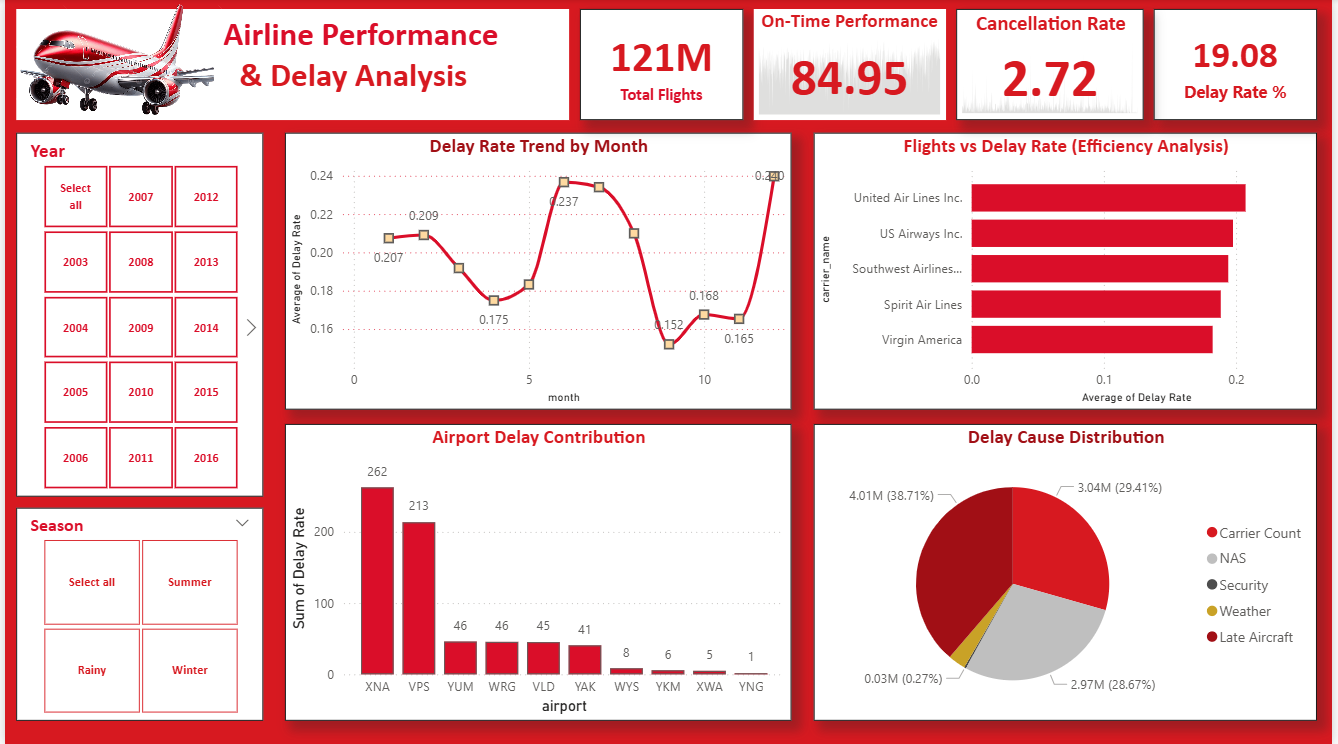

The page's visual inventory and layout, read from the dashboard file:
{"tool":"powerbi","page":{"name":"Airline Performance and Delays Analysis","canvas":[1280,720],"ordinal":0},"visuals":[{"type":"lineChart","title":"Delay Rate Trend by Month","fields":{"Category":["AIRLINE DELAY.month"],"Y":["Avg(AIRLINE DELAY.Delay Rate)"]},"box":[270.3,129,488.5,267.6],"z":0},{"type":"clusteredBarChart","title":"Flights vs Delay Rate (Efficiency Analysis)","fields":{"Category":["AIRLINE DELAY.carrier_name"],"Y":["Avg(AIRLINE DELAY.Delay Rate)"]},"box":[780.8,129,485.8,267.6],"z":1000},{"type":"lineStackedColumnComboChart","title":"Airport Delay Contribution","fields":{"Category":["AIRLINE DELAY.airport"],"Y":["Sum(AIRLINE DELAY.Delay Rate)"]},"box":[270.3,410.3,488.5,286.8],"z":2000},{"type":"pieChart","title":"Delay Cause Distribution","fields":{"Y":["Sum(AIRLINE DELAY.carrier_ct)","Sum(AIRLINE DELAY.nas_ct)","Sum(AIRLINE DELAY.security_ct)","Sum(AIRLINE DELAY.weather_ct)","Sum(AIRLINE DELAY.late_aircraft_ct)"]},"box":[780.8,410.3,485.8,286.8],"z":3000},{"type":"card","fields":{"Values":["Sum(AIRLINE DELAY.arr_flights)"]},"box":[554.4,9.6,157.8,107],"z":4000},{"type":"card","fields":{"Values":["AIRLINE DELAY.Delay Rate %"]},"box":[1108.8,9.6,157.8,107],"z":5000},{"type":"slicer","fields":{"Values":["AIRLINE DELAY.year"]},"box":[11,129,238.8,351.3],"z":6000},{"type":"slicer","fields":{"Values":["AIRLINE DELAY.Season"]},"box":[11,491.3,238.8,205.8],"z":7000},{"type":"kpi","title":"Cancellation Rate","fields":{"Indicator":["AIRLINE DELAY.Cancellation Rate"],"TrendLine":["AIRLINE DELAY.arr_flights"]},"box":[918,9.6,181.1,107],"z":8000},{"type":"kpi","title":"On-Time Performance","fields":{"Indicator":["AIRLINE DELAY.On-Time Perforamnce %"],"TrendLine":["AIRLINE DELAY.arr_flights"]},"box":[723.2,9.6,185.2,107],"z":9000},{"type":"textbox","box":[11,9.6,533.8,107],"z":10000},{"type":"image","box":[0,0,216.8,116.6],"z":11000}]}

Visuals, with their boxes in screenshot pixels (x1, y1, x2, y2), scaled from the page's 1280x720 canvas onto the 1338x744 screenshot:
"Delay Rate Trend by Month" lineChart: <bbox>283, 133, 793, 410</bbox>
"Flights vs Delay Rate (Efficiency Analysis)" clusteredBarChart: <bbox>816, 133, 1324, 410</bbox>
"Airport Delay Contribution" lineStackedColumnComboChart: <bbox>283, 424, 793, 720</bbox>
"Delay Cause Distribution" pieChart: <bbox>816, 424, 1324, 720</bbox>
card - Sum(AIRLINE DELAY.arr_flights): <bbox>580, 10, 744, 120</bbox>
card - AIRLINE DELAY.Delay Rate %: <bbox>1159, 10, 1324, 120</bbox>
slicer - AIRLINE DELAY.year: <bbox>11, 133, 261, 496</bbox>
slicer - AIRLINE DELAY.Season: <bbox>11, 508, 261, 720</bbox>
"Cancellation Rate" kpi: <bbox>960, 10, 1149, 120</bbox>
"On-Time Performance" kpi: <bbox>756, 10, 950, 120</bbox>
textbox: <bbox>11, 10, 569, 120</bbox>
image: <bbox>0, 0, 227, 120</bbox>
